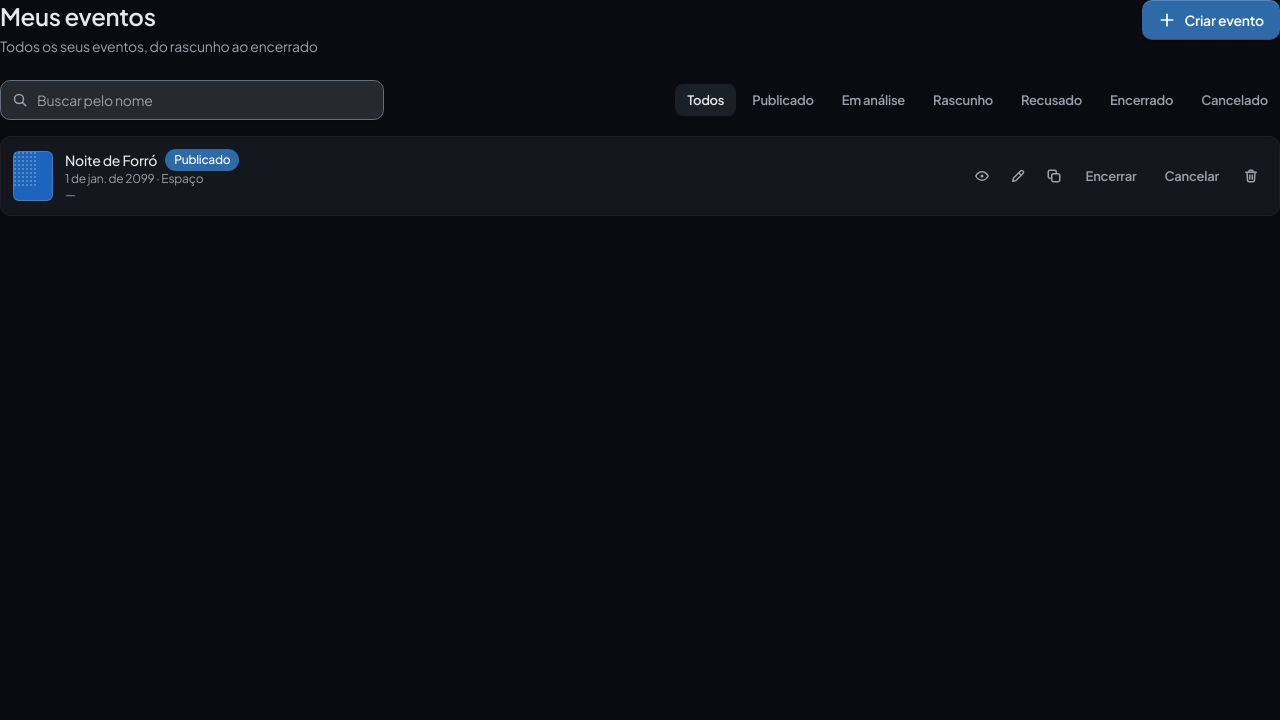
Todos os eventos (tela 02) › contagem desconhecida com data por vir: Encerrar abre a janela e manda falar com o suporte
Click the button with aria-label "Encerrar Noite de Forró".
click(1111, 176)  # box [1074,160,1149,192]
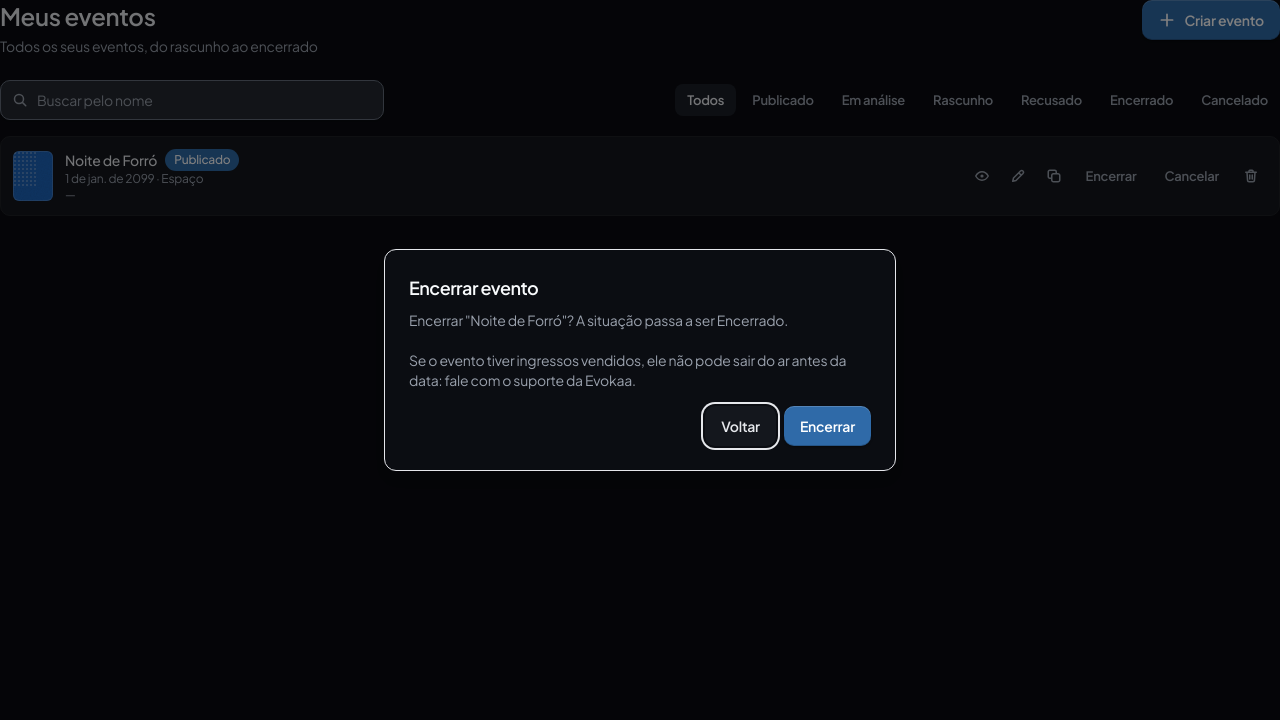
Result: the dialog shows "fale com o suporte" at [409,311,846,389]
